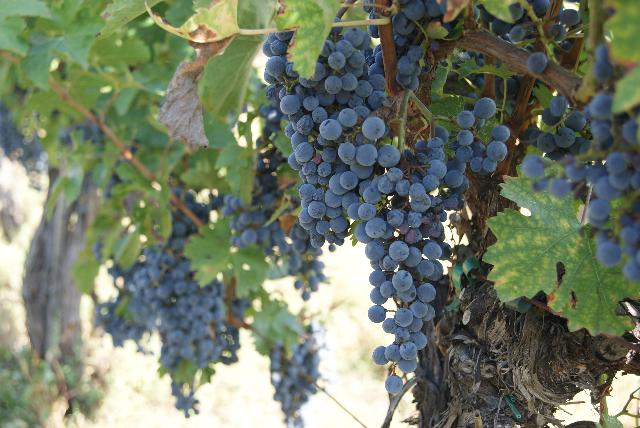grapes: (351, 110, 510, 372), (265, 27, 399, 240), (96, 248, 240, 416), (270, 350, 316, 428), (291, 321, 325, 380)
